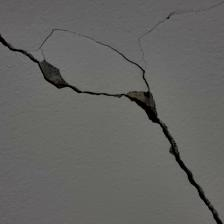Medium: (18, 33, 214, 200)
